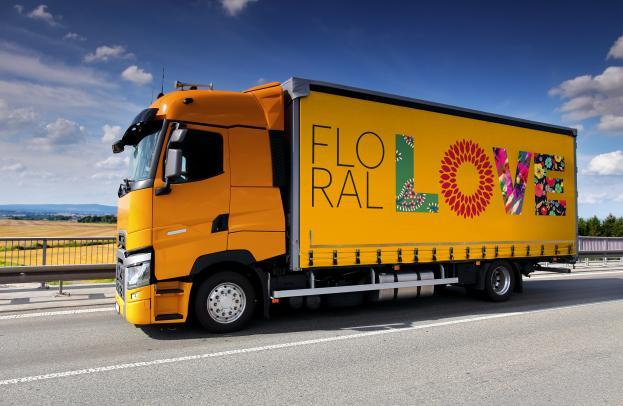truck: (112, 75, 579, 334)
